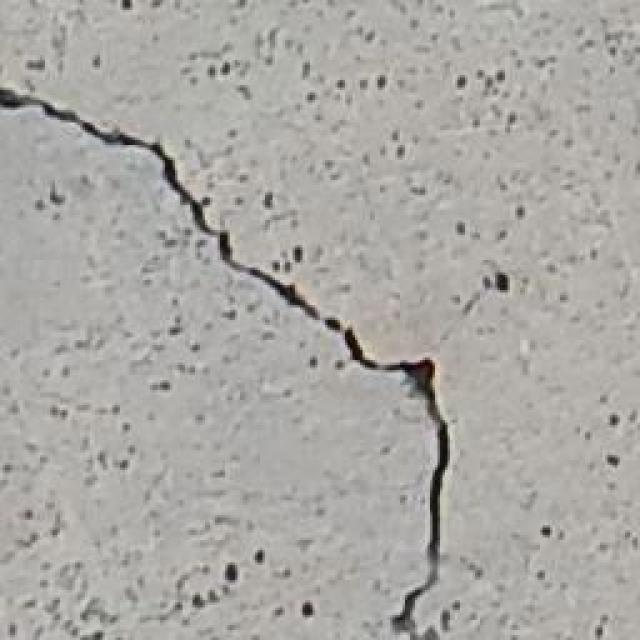concrete-crack: (0, 85, 450, 640)
